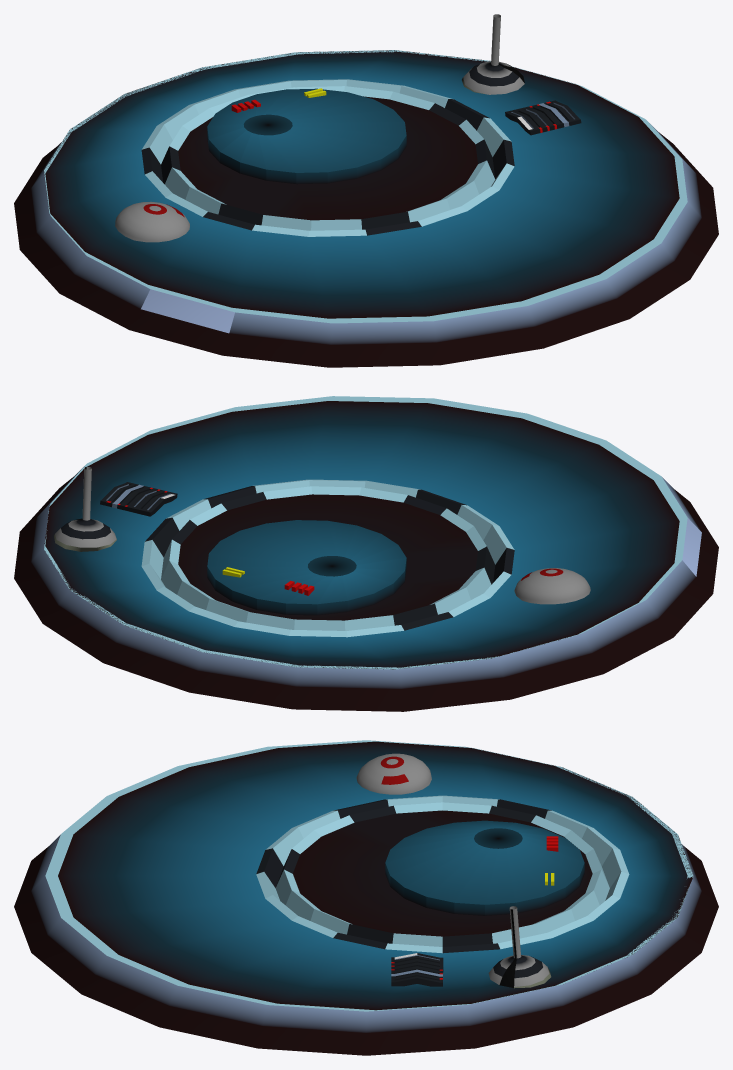
The model's file is RechargeStation.fbx.
3 views of the same model, one above another, from view 1: azimuth 30°, elevation 25°; view 2: azimuth 150°, elevation 25°; view 3: azimuth 270°, elevation 25° (orthographic).
Parts seen in each view (by area): view 1: polySurface167, RechargeMovingRing, polySurface166; view 2: polySurface167, RechargeMovingRing, polySurface166; view 3: polySurface167, RechargeMovingRing, polySurface166.
Part boxes in pixels (box(x1,y1,x2,y2)): polySurface167: box(14, 14, 718, 367); RechargeMovingRing: box(141, 79, 514, 236); polySurface166: box(207, 88, 406, 184); polySurface167: box(14, 396, 718, 711); RechargeMovingRing: box(141, 479, 514, 637); polySurface166: box(207, 520, 406, 615); polySurface167: box(14, 740, 718, 1055); RechargeMovingRing: box(256, 795, 629, 953); polySurface166: box(385, 820, 584, 915).
Bounding box in the file's own units: 5.71 × 0.8805 × 5.71.
